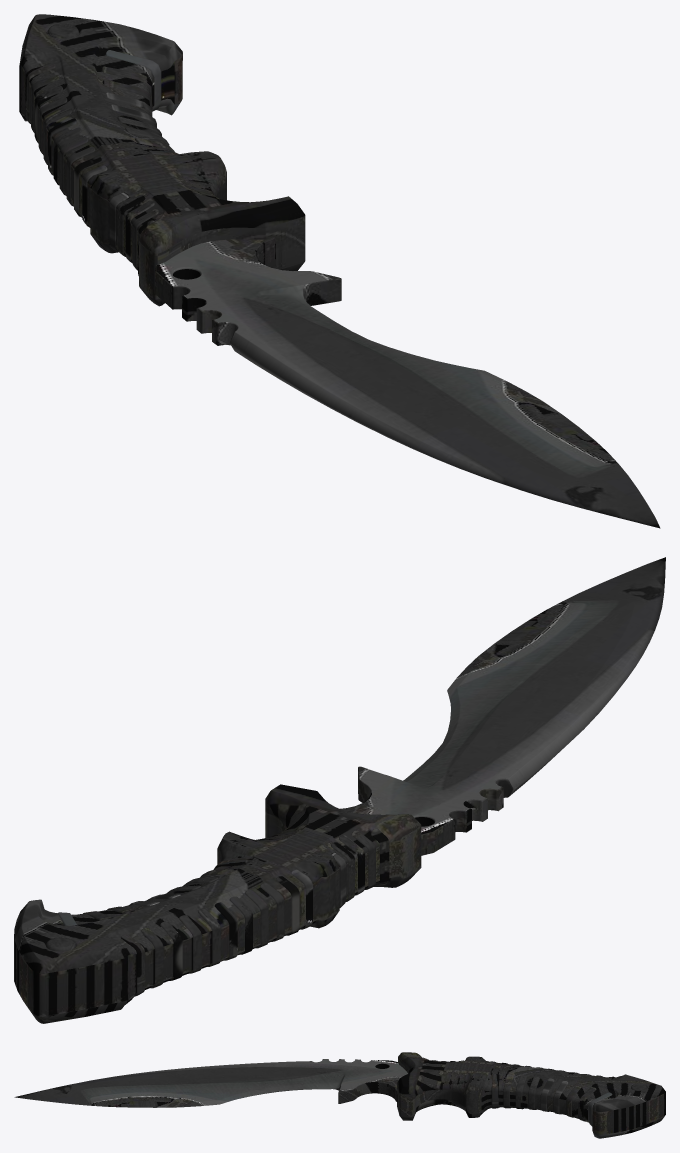
The model's file is w_knife.glb.
3 renders of one model, top to bottom at view 1: azimuth 30°, elevation 25°; view 2: azimuth 150°, elevation 25°; view 3: azimuth 270°, elevation 25°, orthographic. The views are drawn at different scales.
Parts seen in each view (by area): view 1: w_knife; view 2: w_knife; view 3: w_knife.
Part boxes in pixels (left/top/right/bottom): w_knife: left=19, top=14, right=660, bottom=528; w_knife: left=14, top=557, right=665, bottom=1023; w_knife: left=14, top=1052, right=665, bottom=1138.
Size of the model in its own units: 0.1119 by 0.0318 by 0.523.
1 material, 1 textured.
